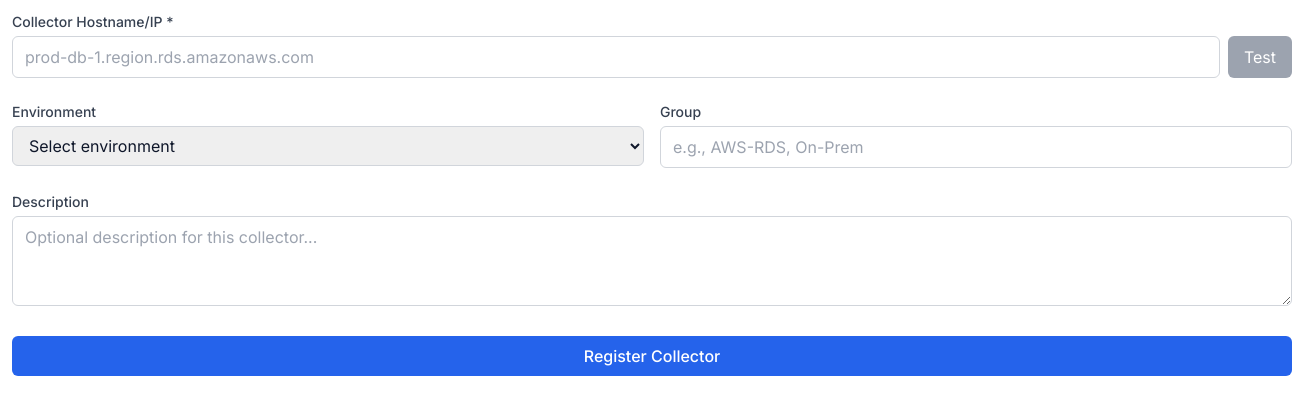
Test case: CollectorForm › Form validation › should show validation error when hostname is empty on submit
# Submit without entering hostname
What coordinates should you click on to do the following:
click the button "Register Collector"
I would click on:
 (652, 356)
Its box is x1=12 y1=336 x2=1292 y2=376.
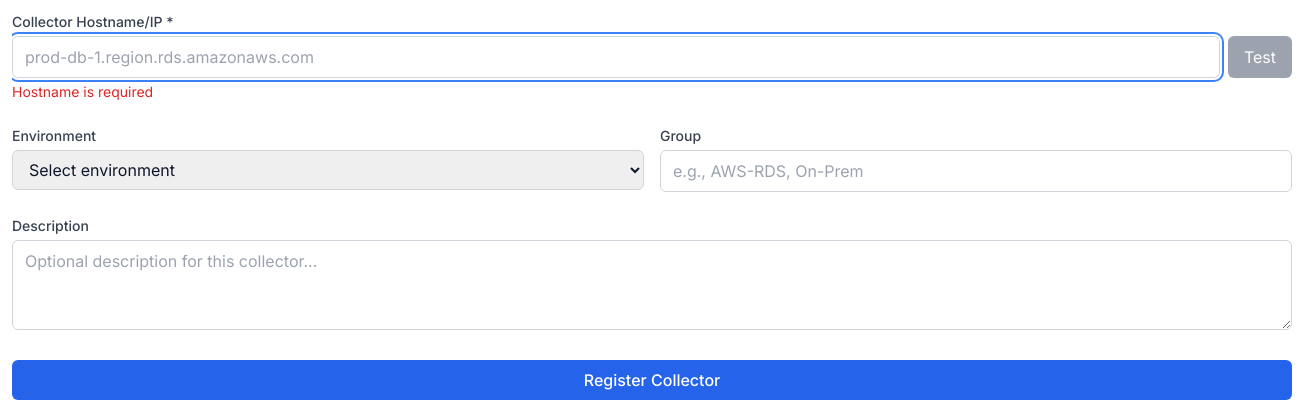
Check: the text "Hostname is required" is shown, box x1=12 y1=83 x2=153 y2=100
